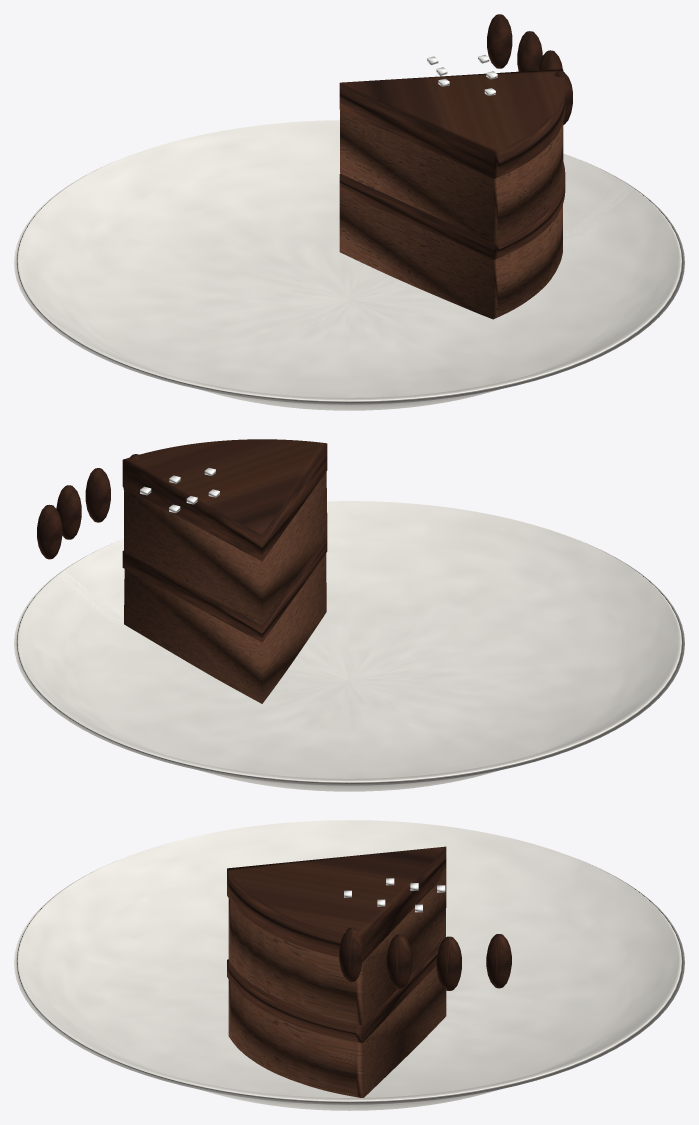
The model's file is torta-chocolate.glb.
The picture shows the model from 3 angles, top to bottom: view 1: azimuth 30°, elevation 25°; view 2: azimuth 150°, elevation 25°; view 3: azimuth 270°, elevation 25°; orthographic projection.
Bounding box in the file's own units: 0.18 × 0.0631 × 0.18.
4 materials, 3 textured.
